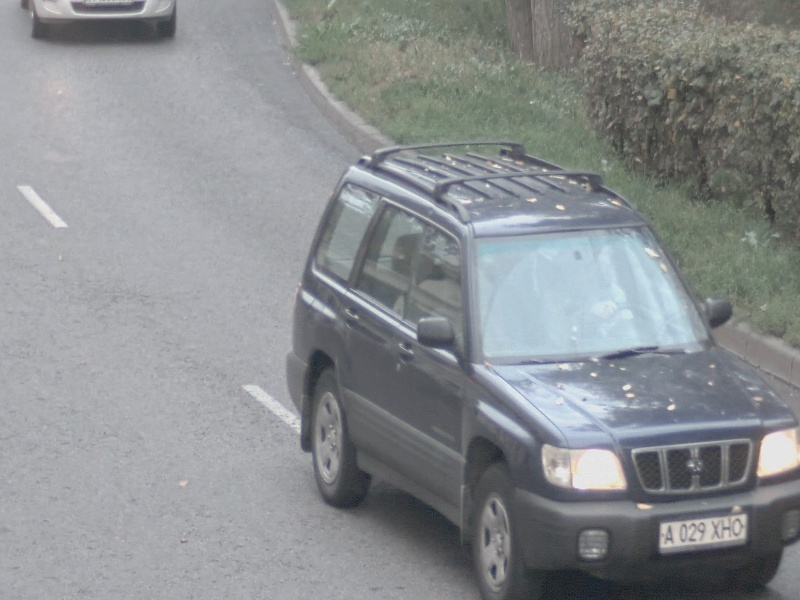plate: (657, 510, 751, 558)
